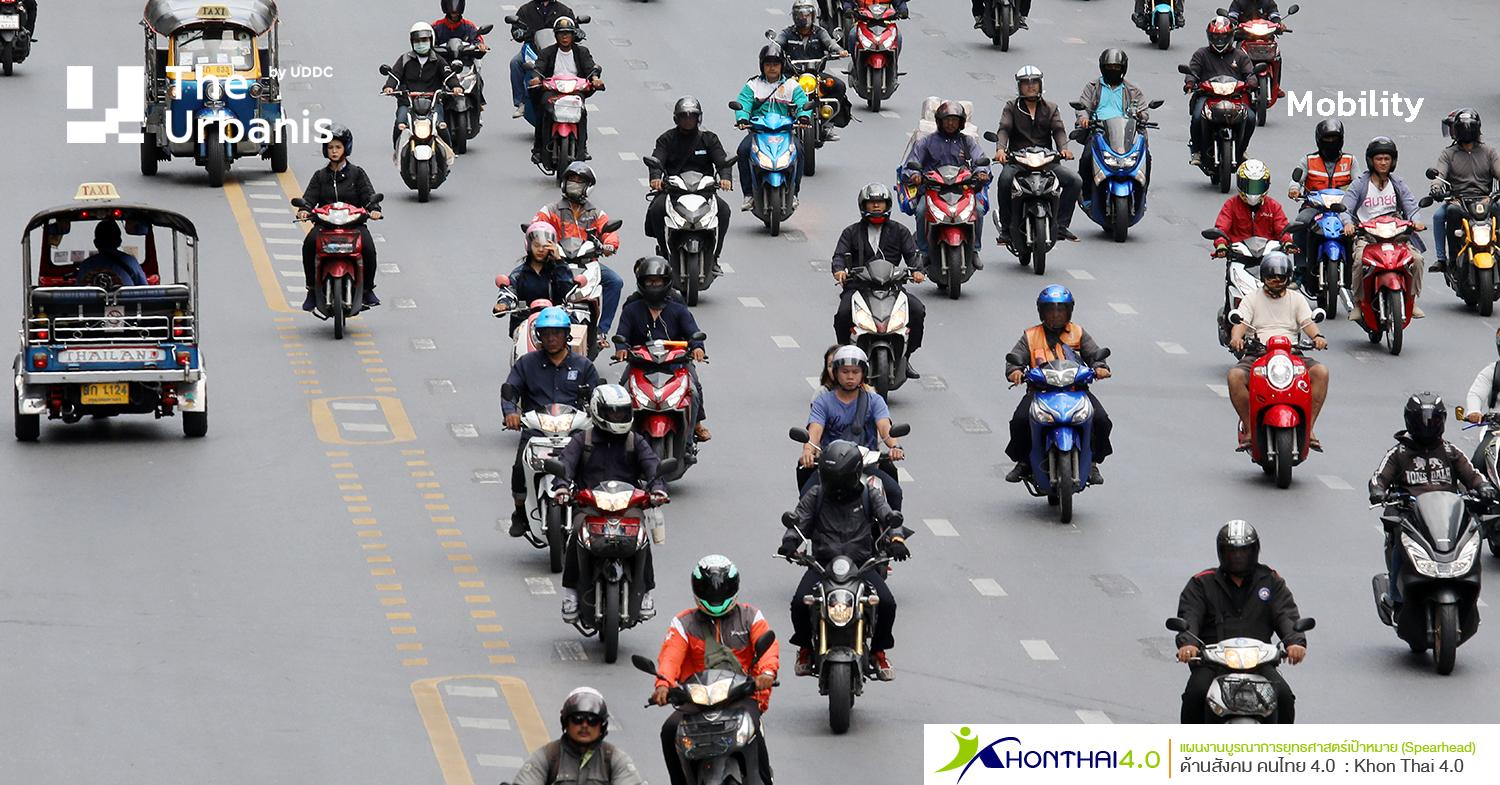helmet: (1197, 510, 1277, 575), (680, 549, 751, 622), (552, 684, 624, 754), (1397, 389, 1465, 456), (524, 299, 587, 366), (1355, 129, 1415, 191), (820, 344, 888, 396), (809, 439, 875, 491), (1034, 279, 1081, 347), (587, 382, 643, 439), (635, 252, 687, 310), (849, 179, 904, 233), (1447, 97, 1493, 161), (1250, 250, 1305, 299), (1092, 39, 1143, 91), (667, 89, 716, 142), (929, 100, 983, 147), (309, 119, 358, 169), (1307, 115, 1356, 163), (1005, 65, 1056, 107), (547, 17, 596, 57), (1200, 17, 1245, 59), (754, 40, 792, 89), (782, 0, 828, 39), (402, 22, 443, 65), (442, 0, 471, 26)
